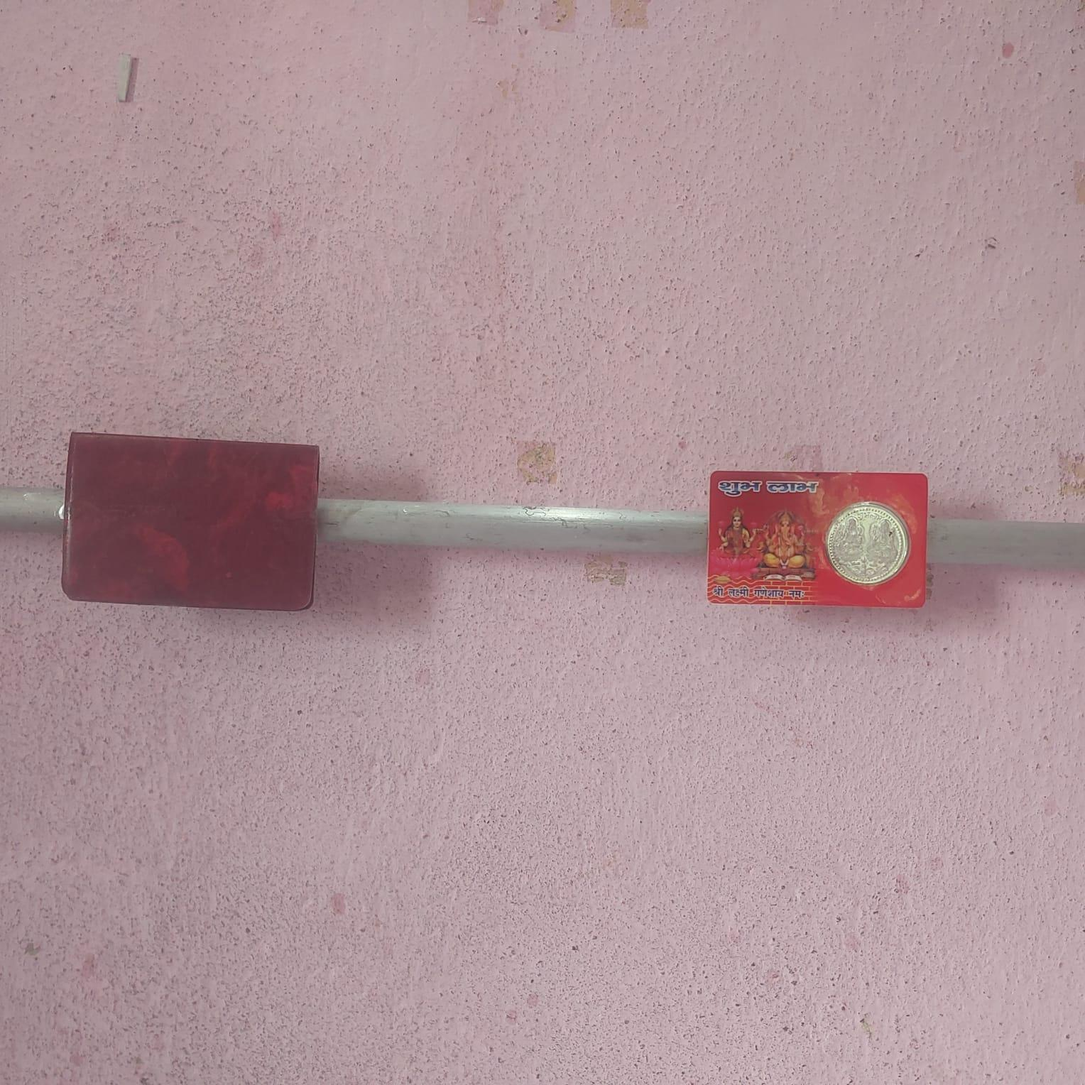blessing_card: (709, 465, 930, 611)
wallet: (63, 425, 324, 614)
